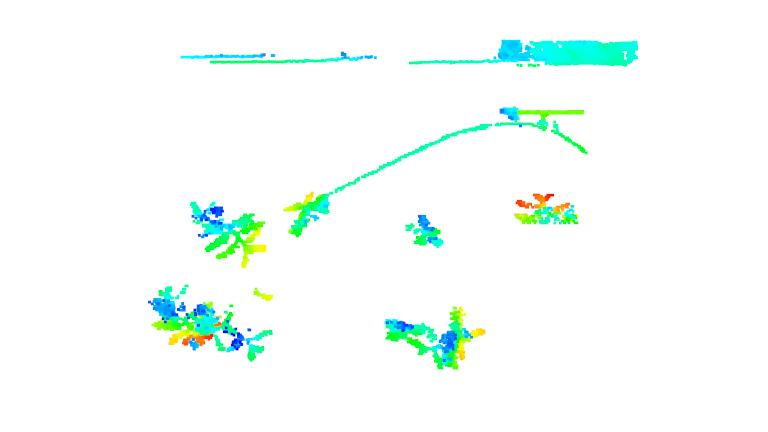chickpea: (196, 293, 288, 362), (186, 197, 272, 270), (378, 309, 452, 371), (147, 279, 207, 354), (513, 187, 591, 236), (447, 301, 499, 371), (282, 190, 336, 242), (399, 212, 453, 253)
